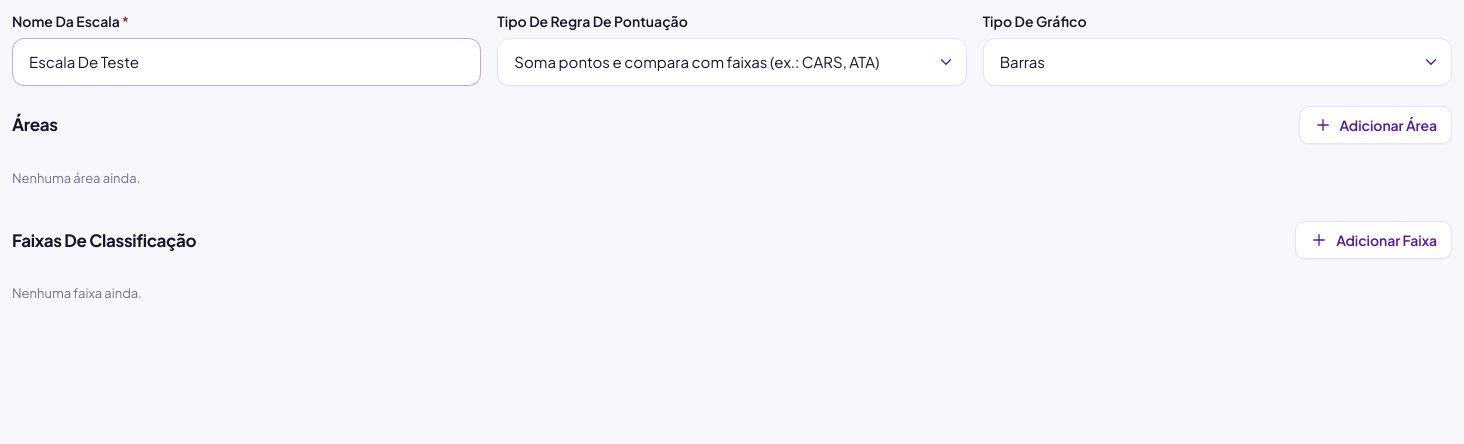
TemplateBuilder › adicionar uma área faz ela aparecer na tela
Click the button "Adicionar Área" at (1375,125), box [1298, 106, 1452, 144]
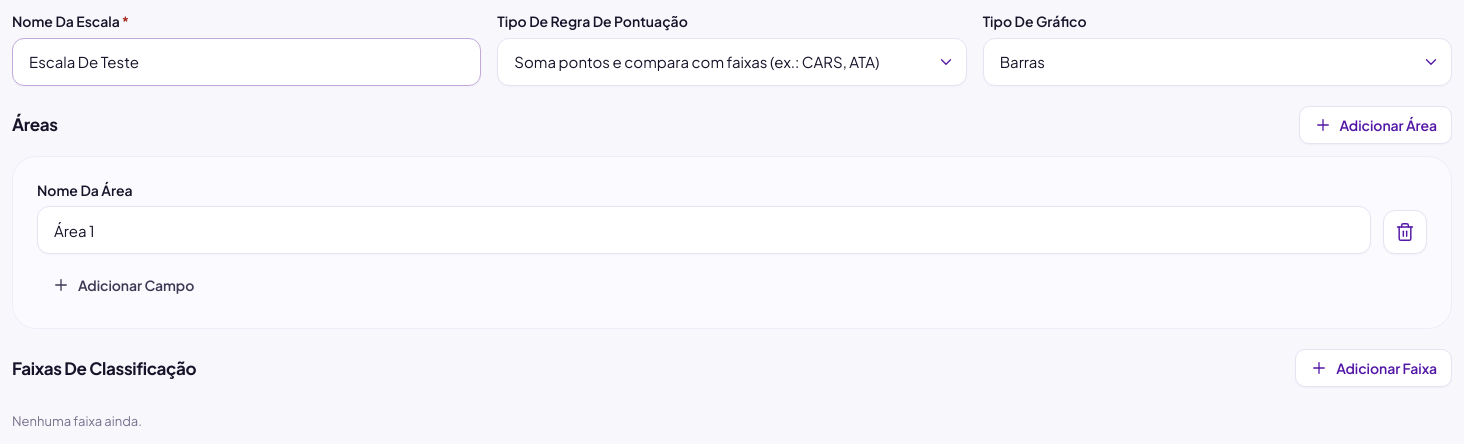
Result: the field showing "Área 1" is shown at [37, 206, 1371, 254]
